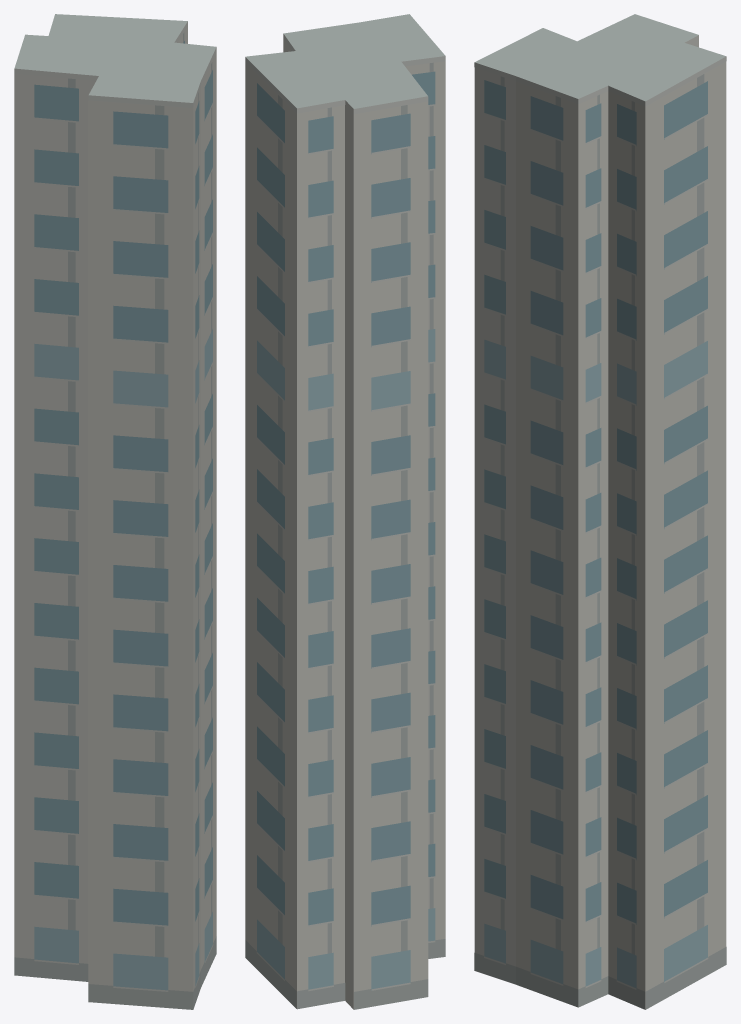
File: survey-upis-33012068.glb
3 renders of one model, left to right at view 1: azimuth 30°, elevation 25°; view 2: azimuth 150°, elevation 25°; view 3: azimuth 270°, elevation 25°, orthographic.
Parts seen in each view (by area): view 1: survey-upis-33012068.tmp; view 2: survey-upis-33012068.tmp; view 3: survey-upis-33012068.tmp.
Part boxes in pixels (x1,y1,x2,y2): survey-upis-33012068.tmp: (14,14,216,1009); survey-upis-33012068.tmp: (245,14,445,1009); survey-upis-33012068.tmp: (474,14,726,1009).
Size of the model in its own units: 8.82 by 42.7 by 10.74.
